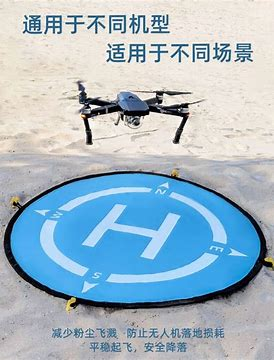H: (80, 203, 181, 261)
